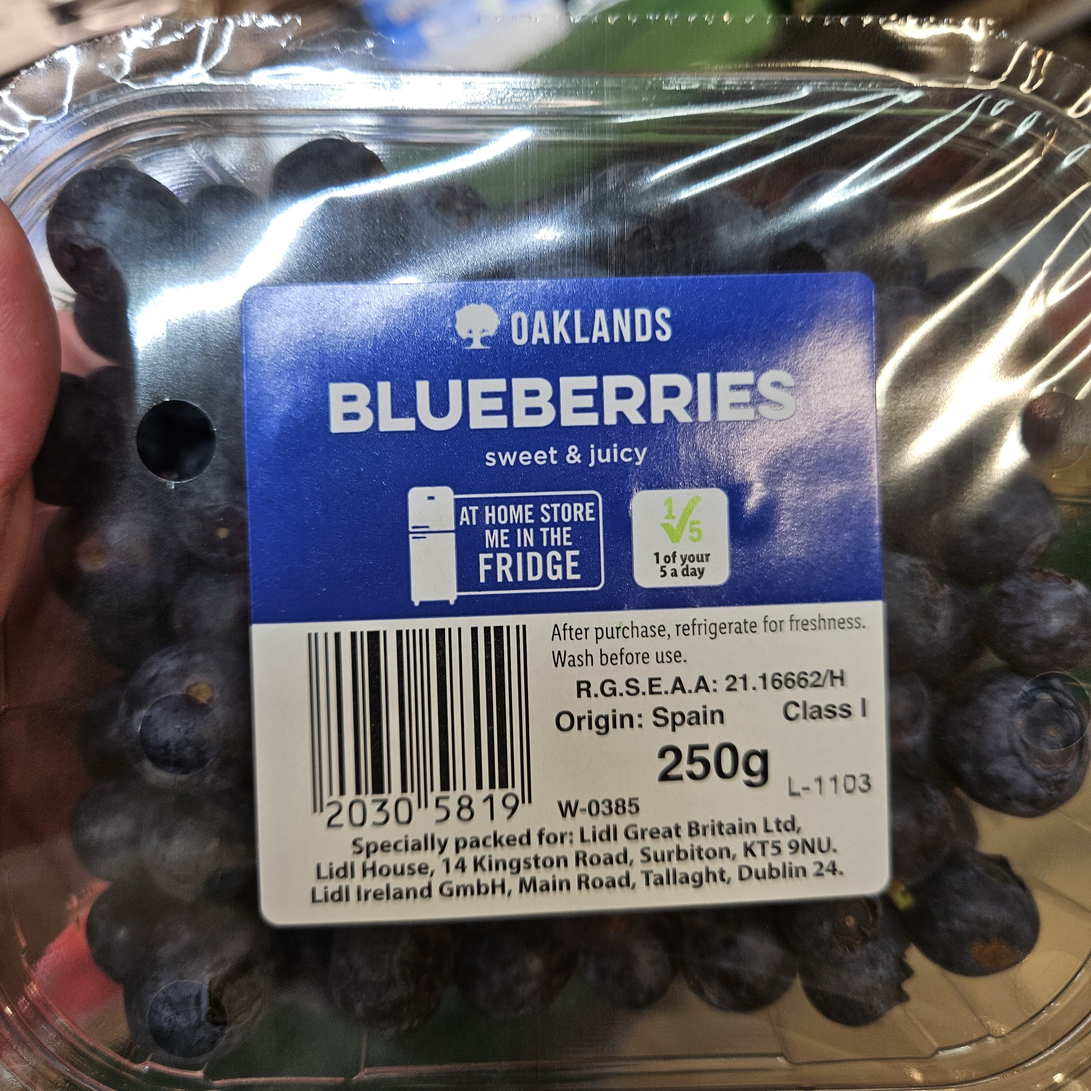myrtilles: (55, 55, 1036, 1036)
